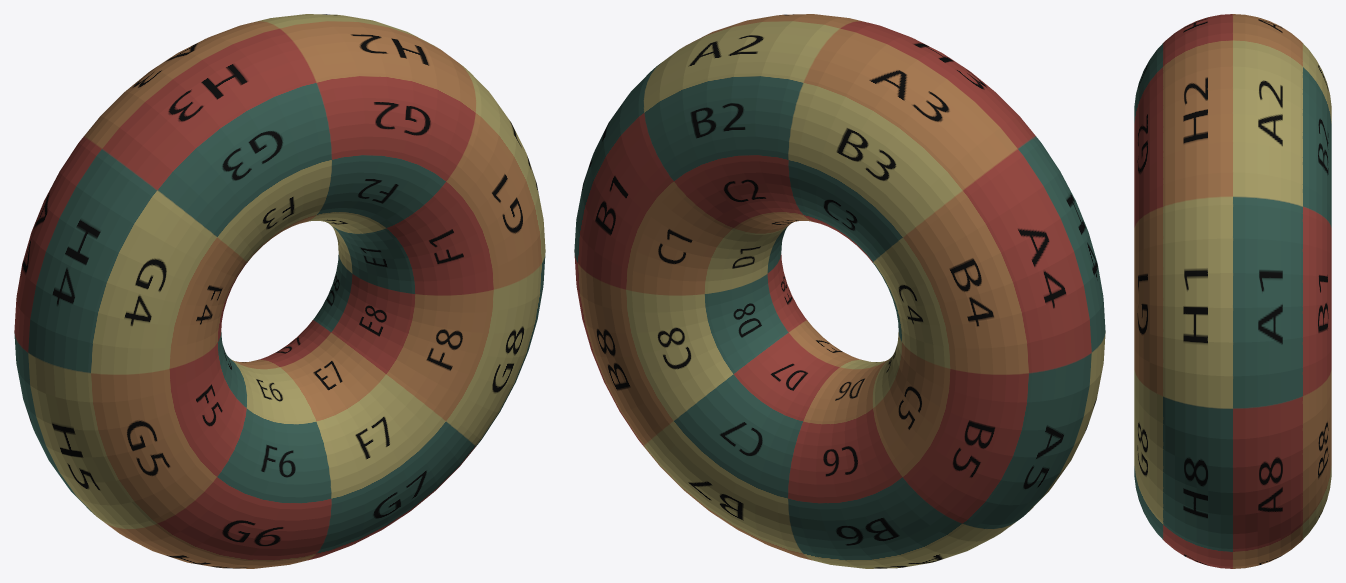
File: texture_torus_R2_r16.glb
The picture shows the model from 3 angles, left to right: view 1: azimuth 30°, elevation 25°; view 2: azimuth 150°, elevation 25°; view 3: azimuth 270°, elevation 25°; orthographic projection. The views are drawn at different scales.
Parts seen in each view (by area): view 1: world; view 2: world; view 3: world.
Boxes of the visible parts, x1,y1,x2,y2 form: world: [14, 14, 545, 568]; world: [574, 14, 1105, 568]; world: [1134, 14, 1331, 568].
Size of the model in its own units: 17.6 by 17.57 by 6.25.
1 material, 1 textured.
